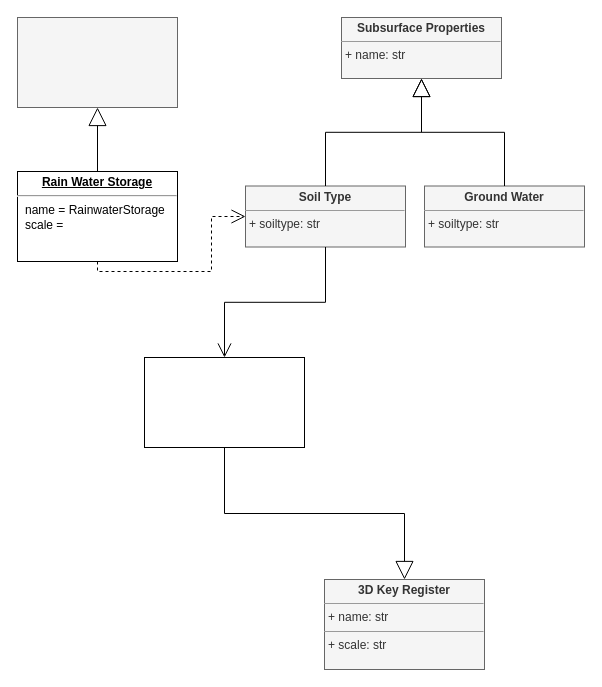
This 602x687 diagram has some shape labels left out. The shapes that lost their labels are listed below. From the top down, each one's box as (x1, y1, x2, y2) in pixels, then its label:
(16, 16, 178, 108): Design Intervention + name: str + scale: str
(144, 356, 304, 448): GeoTop name = GeoTop scale = city
